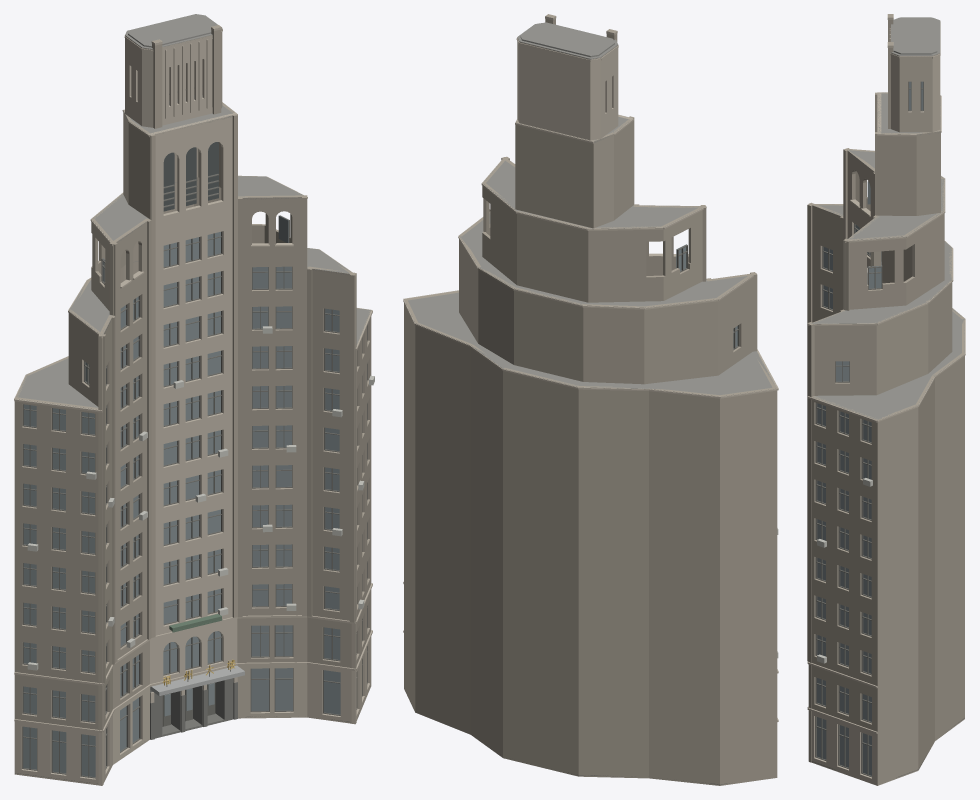
File: huangpu-hamilton-house-lod.glb
3 renders of one model, left to right at view 1: azimuth 30°, elevation 25°; view 2: azimuth 150°, elevation 25°; view 3: azimuth 270°, elevation 25°, orthographic. The views are drawn at different scales.
Parts seen in each view (by area): view 1: 汉弥登大楼（江西中路170号街角、入口及塔冠）; view 2: 汉弥登大楼（江西中路170号街角、入口及塔冠）; view 3: 汉弥登大楼（江西中路170号街角、入口及塔冠）.
Boxes of the visible parts, x1,y1,x2,y2 form: 汉弥登大楼（江西中路170号街角、入口及塔冠）: [14, 14, 374, 785]; 汉弥登大楼（江西中路170号街角、入口及塔冠）: [403, 14, 778, 785]; 汉弥登大楼（江西中路170号街角、入口及塔冠）: [807, 14, 965, 785].
Size of the model in its own units: 33.08 by 60.52 by 12.93.
